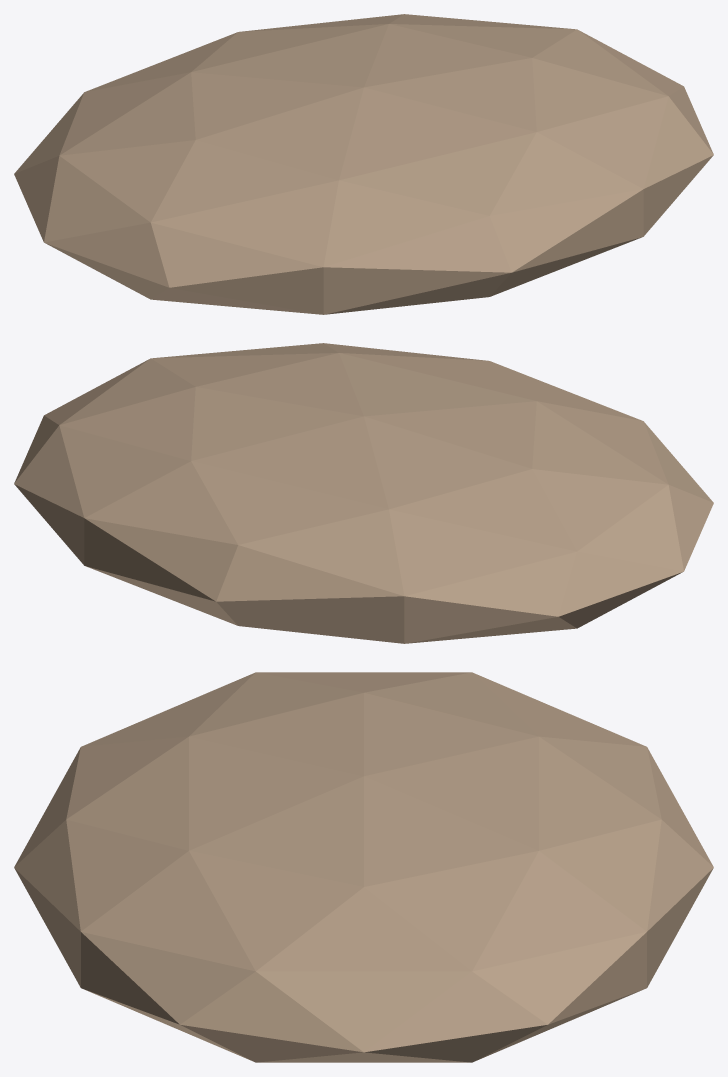
File: soil_mound.glb
3 renders of one model, top to bottom at view 1: azimuth 30°, elevation 25°; view 2: azimuth 150°, elevation 25°; view 3: azimuth 270°, elevation 25°, orthographic. The views are drawn at different scales.
Visible parts, largest first — view 1: Mound; view 2: Mound; view 3: Mound.
Boxes of the visible parts, box(x1,y1,x2,y2) form: Mound: box(14, 14, 713, 314); Mound: box(14, 343, 713, 643); Mound: box(14, 672, 713, 1062).
Size of the model in its own units: 1.7 by 0.391 by 1.36.
